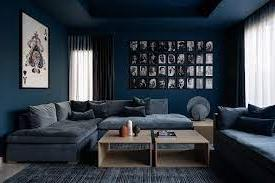sofa: (1, 101, 194, 162), (213, 104, 275, 183)
table: (151, 129, 210, 171), (97, 129, 152, 173), (191, 116, 213, 141)
